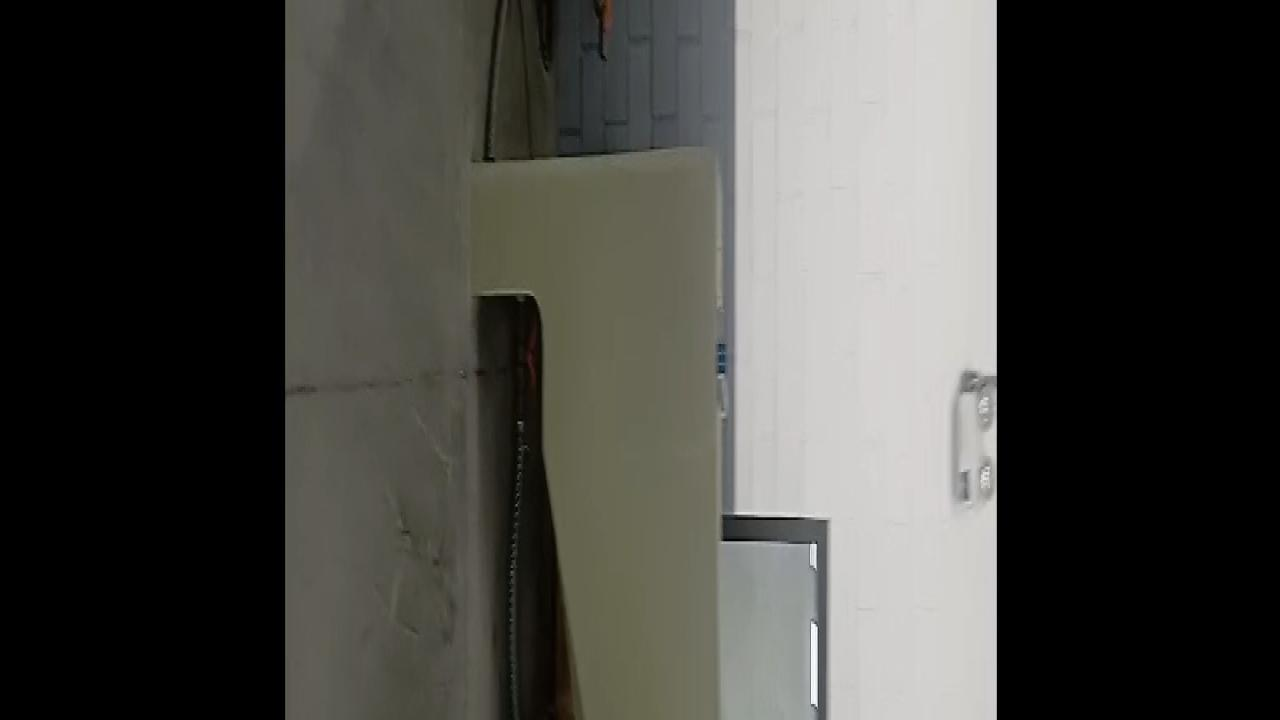Cube: (715, 340, 727, 376)
